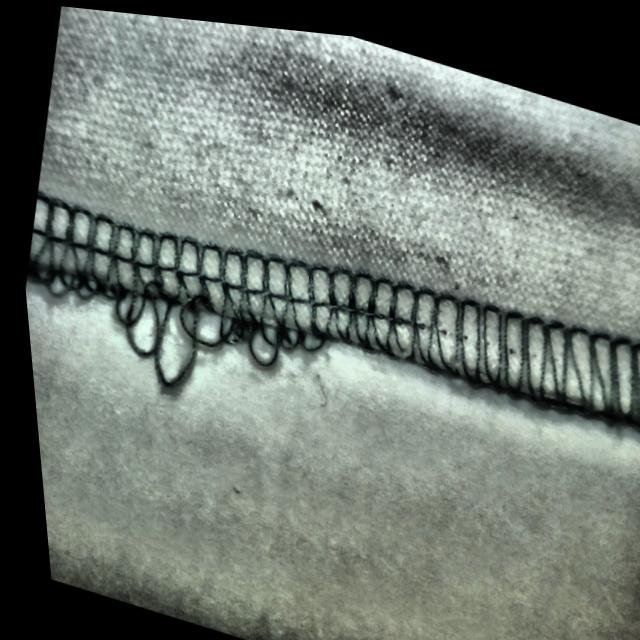Stitch: (13, 174, 346, 434)
